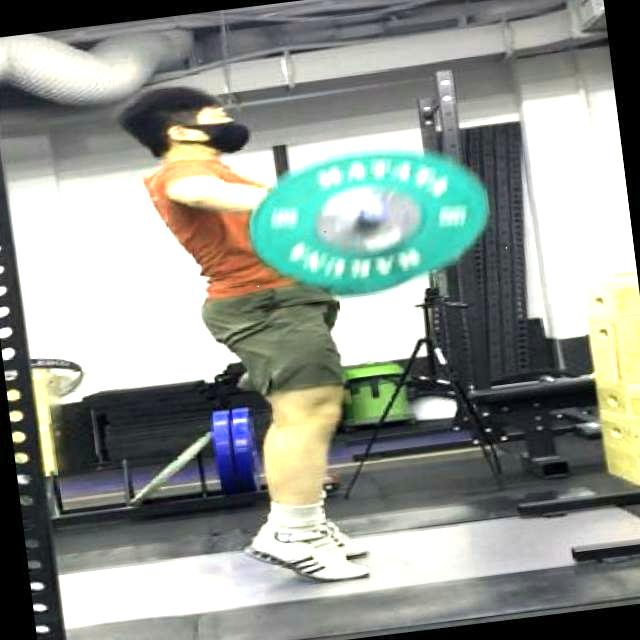barbell: (227, 131, 512, 313)
